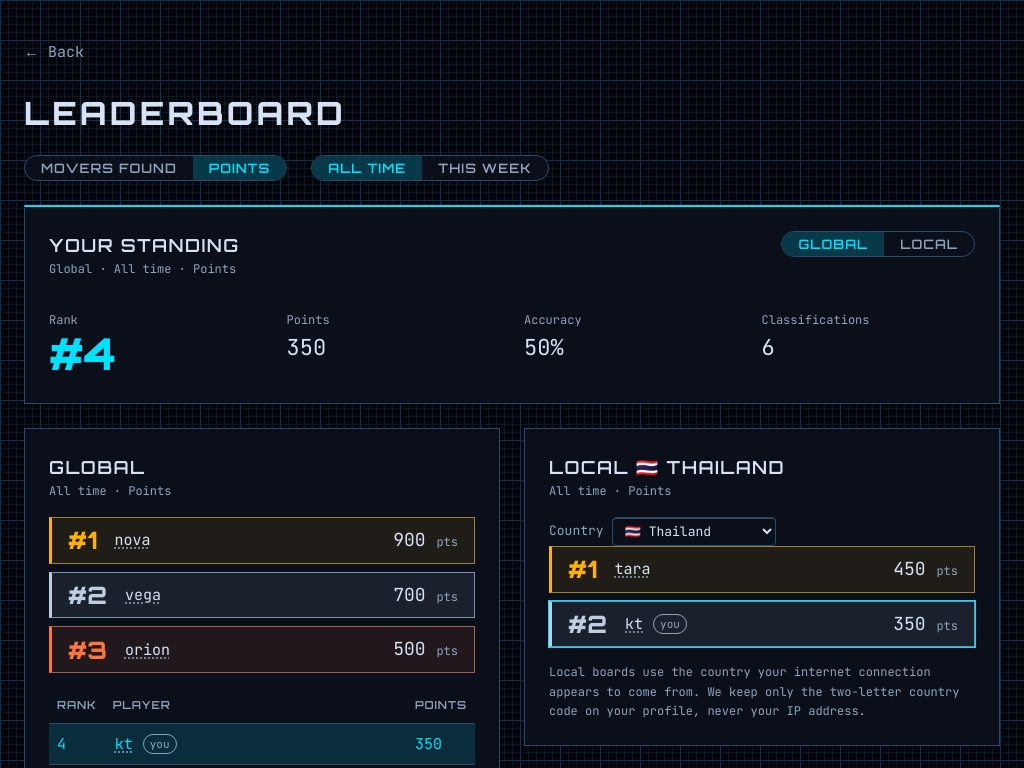
Scenario: LeaderboardScreen player dialog › shows the bot's description and no stage bars
Click the button with aria-label "View stats for nova".
click(132, 540)  # box [112,528,152,552]
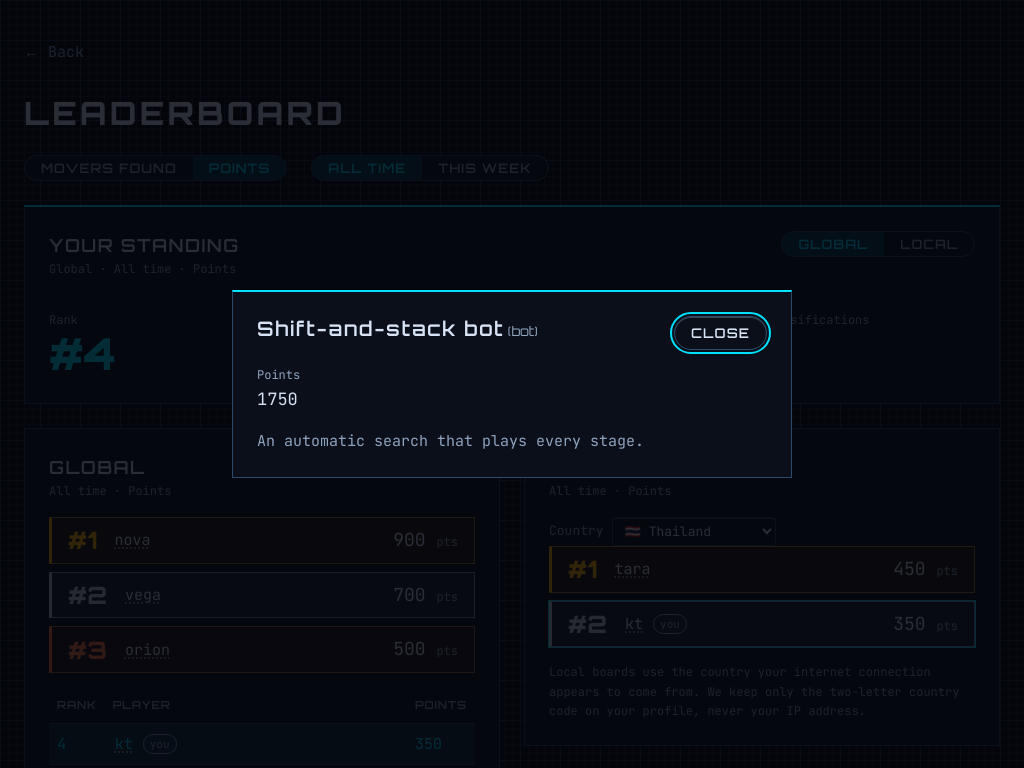
expect the text "An automatic search that plays every stage." is shown: met, box [257,431,644,451]
